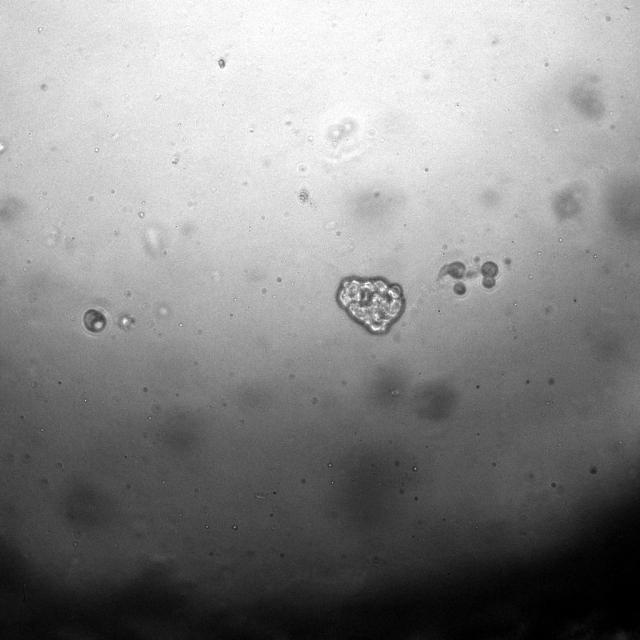organoid: (336, 276, 405, 334), (82, 309, 106, 333), (479, 260, 498, 289), (447, 261, 466, 279), (453, 281, 466, 296)
